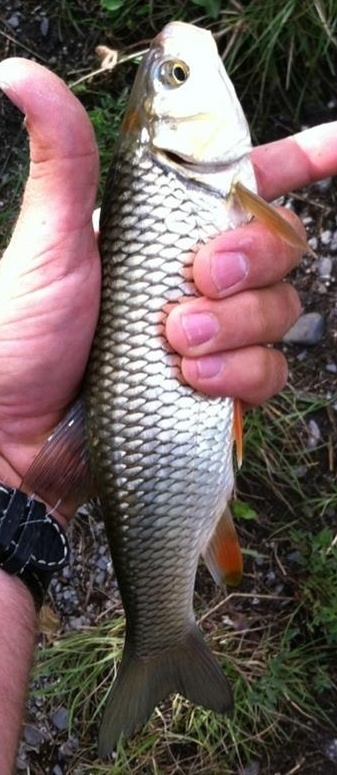Leuciscus cephalus: (20, 20, 317, 755)
